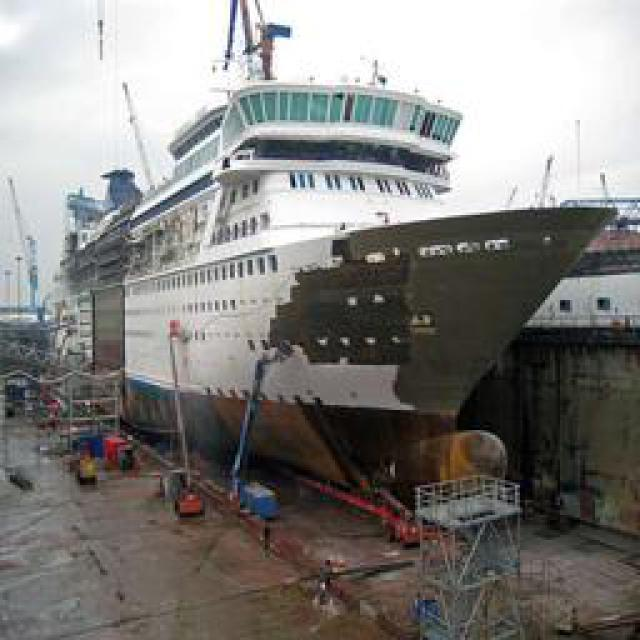Ship: (99, 55, 622, 468)
